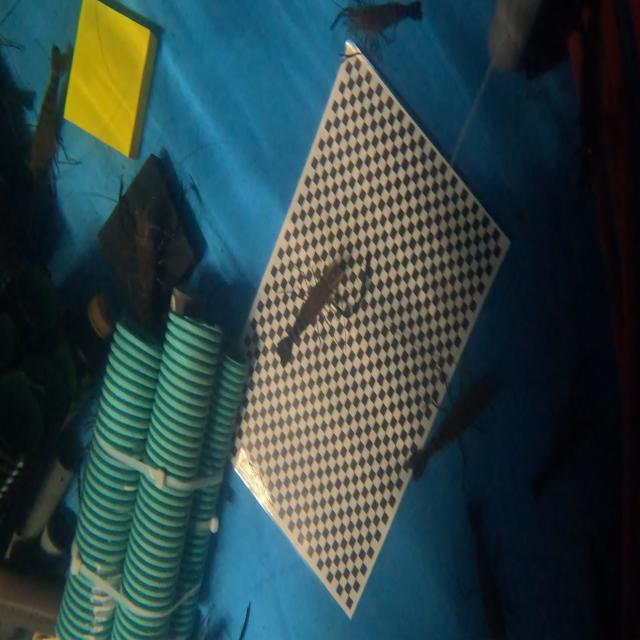prawn: (415, 375, 496, 479), (277, 256, 351, 365), (339, 0, 421, 37)
